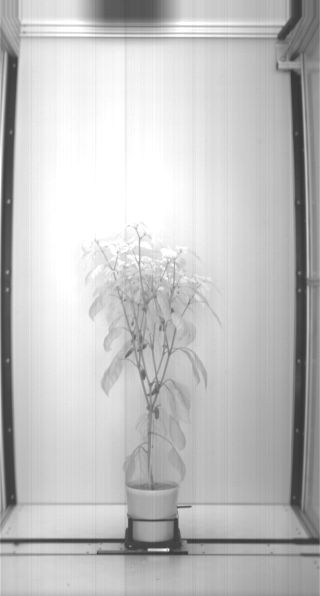bell-pepper fooled_you: (149, 382, 160, 395), (154, 406, 161, 422), (138, 342, 148, 353), (124, 346, 132, 359), (140, 365, 146, 382), (158, 319, 165, 333), (132, 333, 136, 341)
